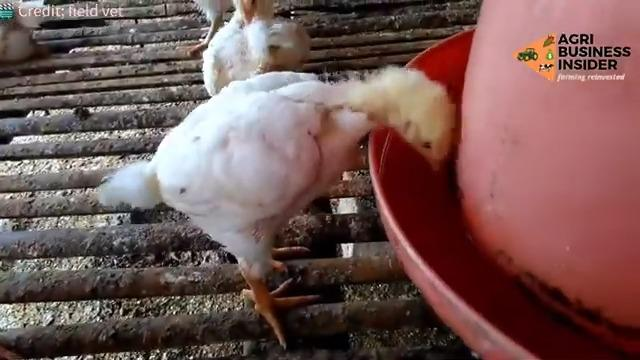AbNormal: (182, 66, 454, 245)
